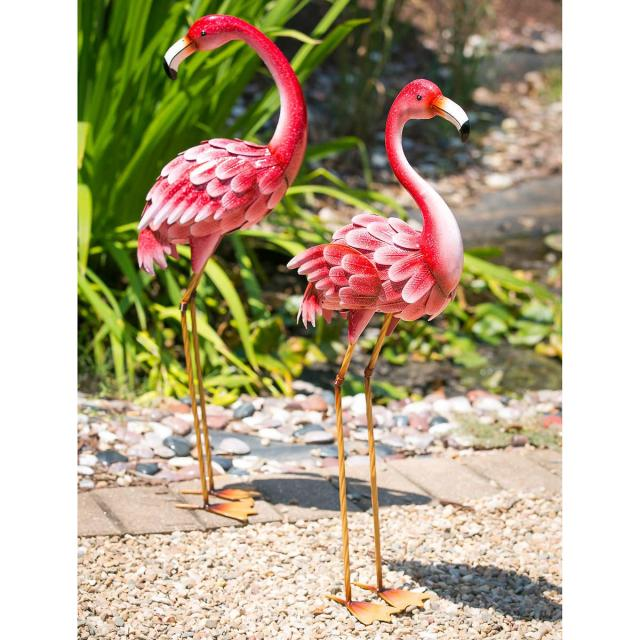Flamingo: (293, 68, 478, 623), (135, 12, 310, 524)
